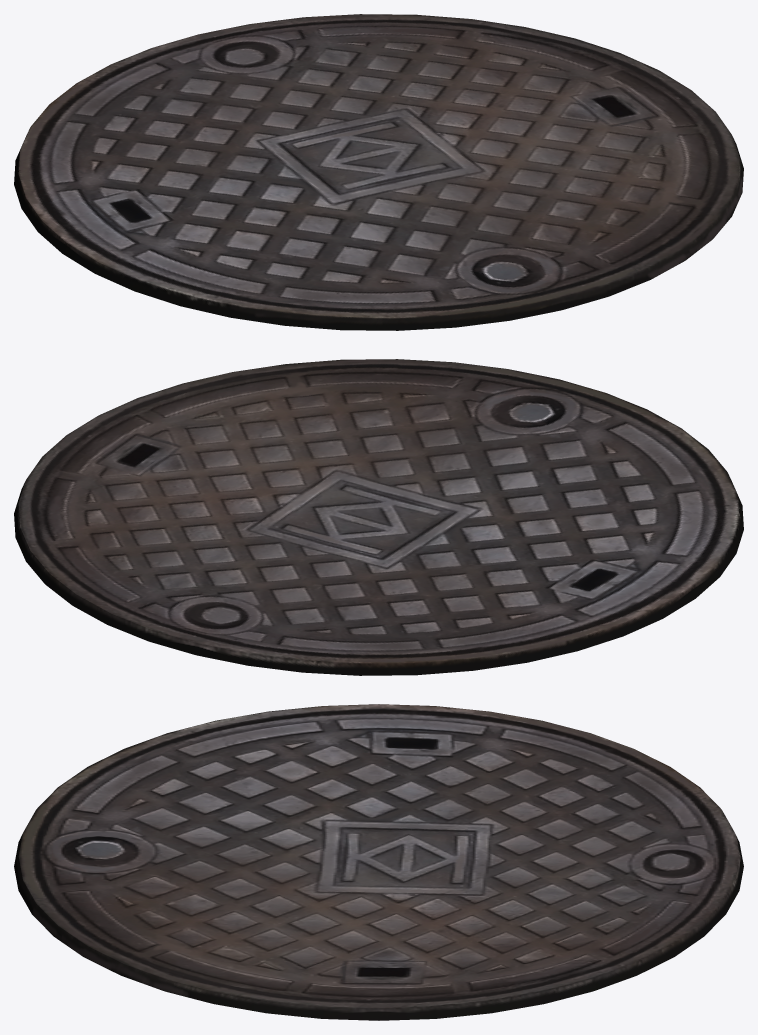
File: JingGai01.fbx
3 renders of one model, top to bottom at view 1: azimuth 30°, elevation 25°; view 2: azimuth 150°, elevation 25°; view 3: azimuth 270°, elevation 25°, orthographic.
Parts seen in each view (by area): view 1: pCylinder1; view 2: pCylinder1; view 3: pCylinder1.
Part boxes in pixels (<box>): pCylinder1: <box>14,14,743,330</box>; pCylinder1: <box>14,359,743,675</box>; pCylinder1: <box>14,704,743,1020</box>.
Size of what is drawn, in the model's own units: 0.022 by 0.000338 by 0.022.
1 material, 1 textured.
